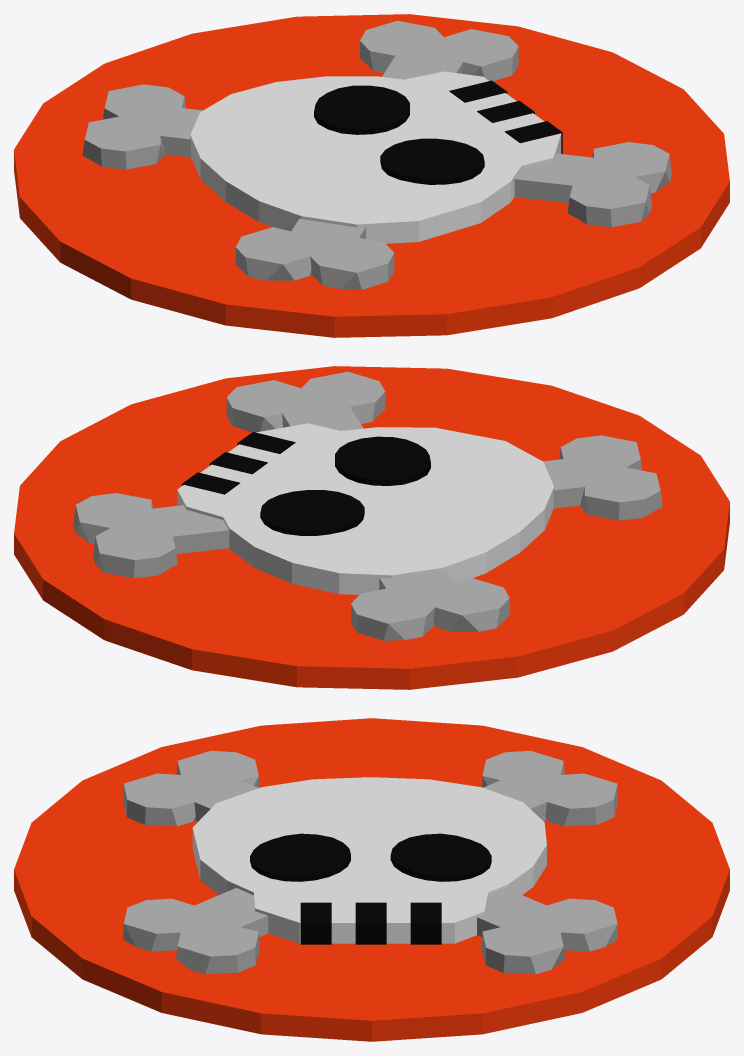
Rendered from skull1.fbx.
3 views of the same model, one above another, from view 1: azimuth 30°, elevation 25°; view 2: azimuth 150°, elevation 25°; view 3: azimuth 270°, elevation 25° (orthographic).
Visible parts, largest first — view 1: Cylinder.039; view 2: Cylinder.039; view 3: Cylinder.039.
Part boxes in pixels (<box>): Cylinder.039: <box>14,14,729,337</box>; Cylinder.039: <box>14,366,729,689</box>; Cylinder.039: <box>14,718,729,1041</box>.
Size of the model in its own units: 494 by 36.09 by 494.
